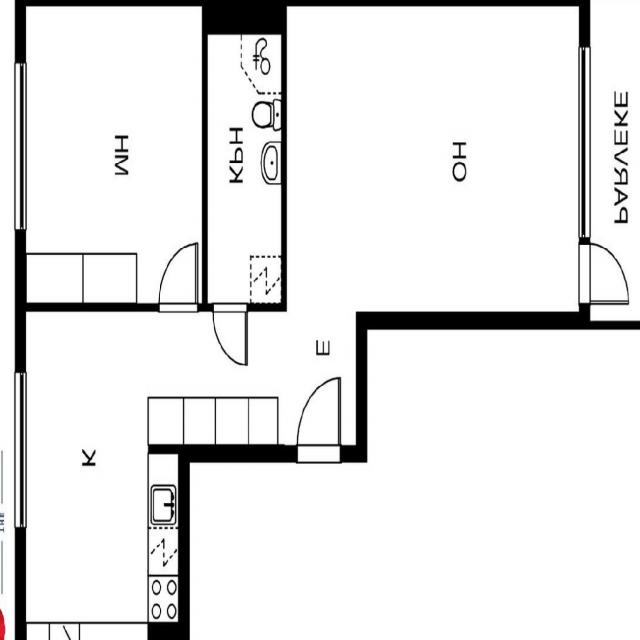door: (298, 378, 341, 462), (579, 244, 628, 303), (159, 242, 198, 311), (213, 302, 247, 363)
